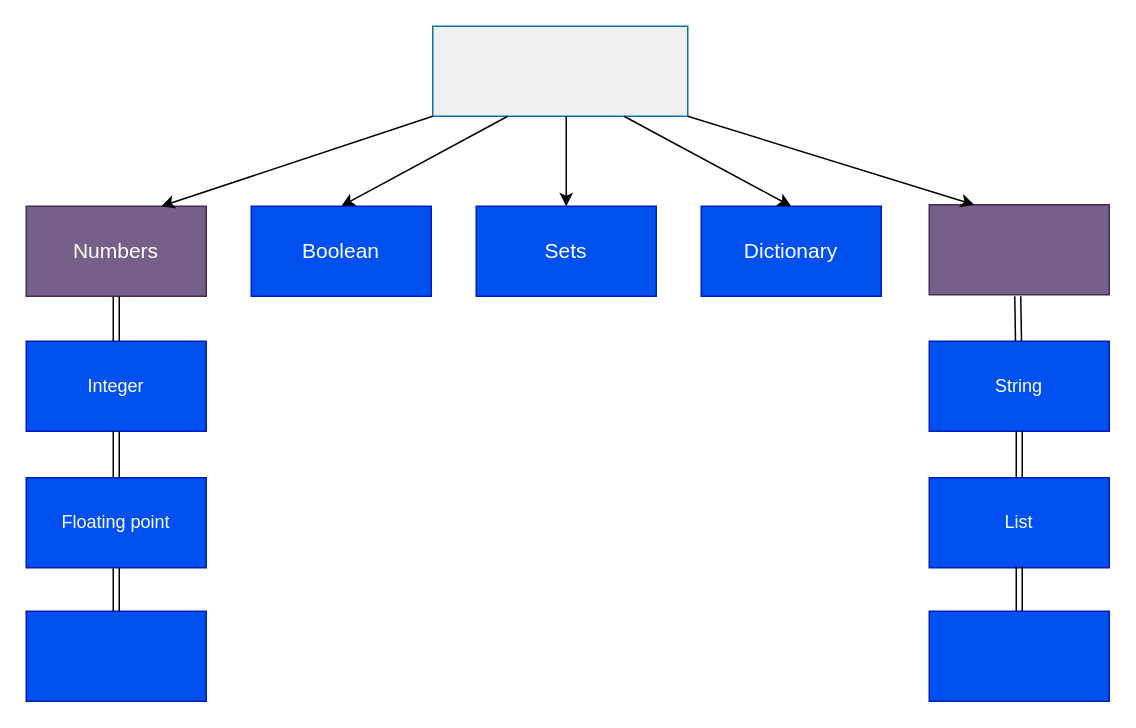
The diagram is 1136 pixels wide and 728 high, and some of its shapes have lost their labels. The box of each missing label's shape, as (x1, y1, x2, y2) in pixels:
Complex number: (25, 610, 206, 701)
Data Types: (431, 25, 688, 116)
Sequences: (928, 203, 1109, 295)
Tuple: (928, 610, 1109, 701)
